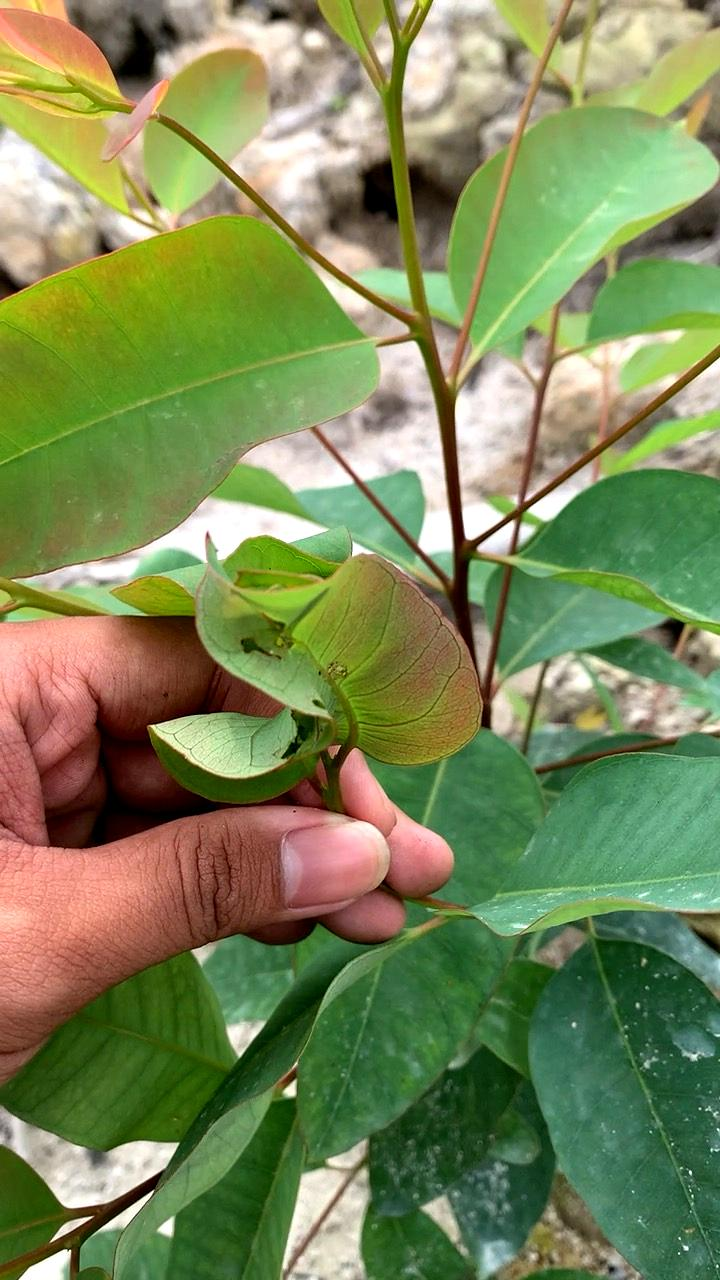Leaf Roller - Leaf: (117, 440, 503, 848)
